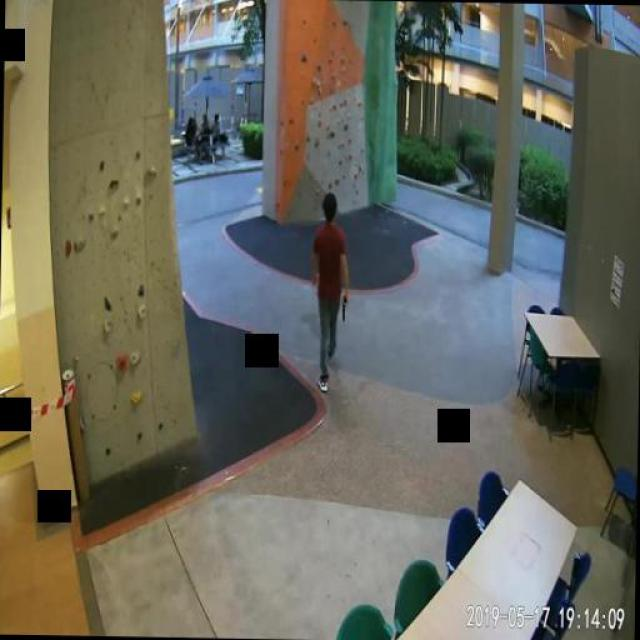gun: (340, 292, 346, 320)
